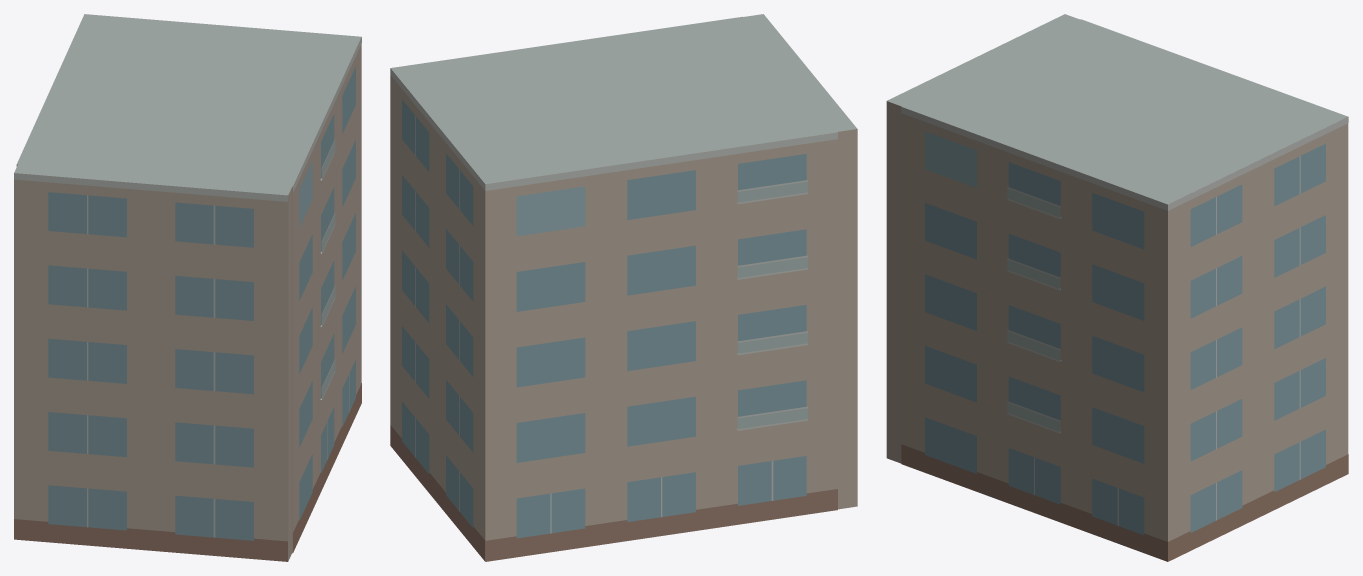
Rendered from survey-upis-32942617.glb.
The picture shows the model from 3 angles, left to right: view 1: azimuth 30°, elevation 25°; view 2: azimuth 150°, elevation 25°; view 3: azimuth 270°, elevation 25°; orthographic projection. The views are drawn at different scales.
Visible parts, largest first — view 1: survey-upis-32942617.tmp; view 2: survey-upis-32942617.tmp; view 3: survey-upis-32942617.tmp.
Part boxes in pixels (x1,y1,x2,y2): survey-upis-32942617.tmp: (14,14,361,561); survey-upis-32942617.tmp: (390,14,857,561); survey-upis-32942617.tmp: (886,14,1348,561).
Size of the model in its own units: 15.68 by 13.7 by 16.06.
